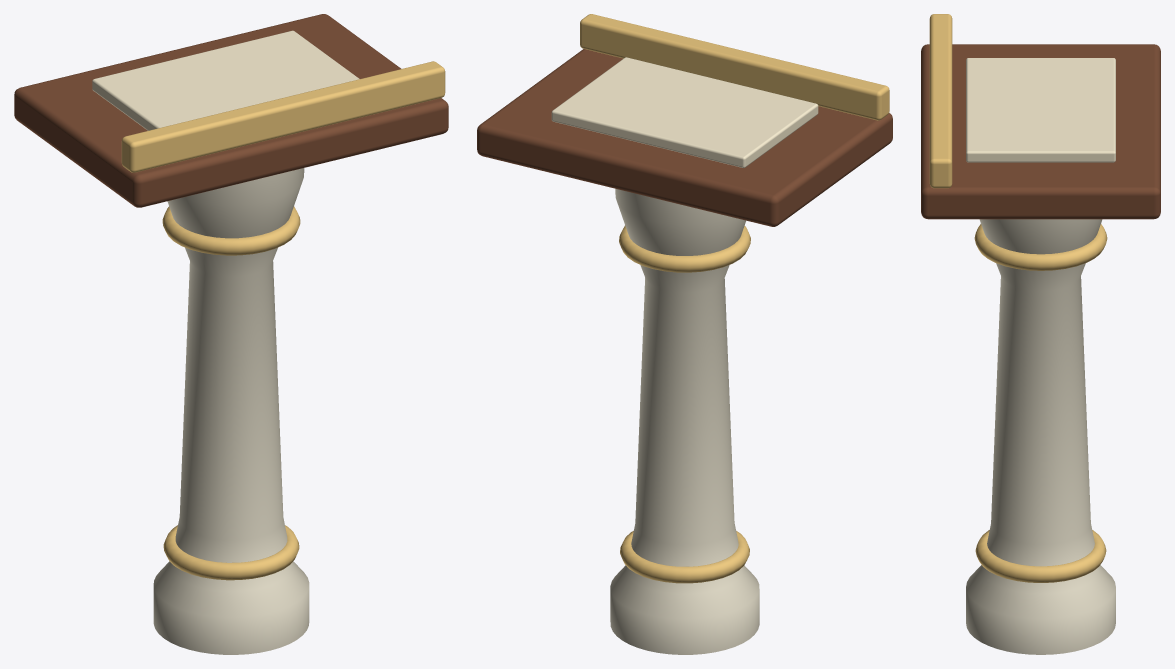
File: royal-court-and-throne-palace-heralds-lectern-a3f2b8fa__29385.glb
The picture shows the model from 3 angles, left to right: view 1: azimuth 30°, elevation 25°; view 2: azimuth 150°, elevation 25°; view 3: azimuth 270°, elevation 25°; orthographic projection. The views are drawn at different scales.
Parts seen in each view (by area): view 1: heralds-lectern; view 2: heralds-lectern; view 3: heralds-lectern.
Boxes of the visible parts, box(x1,y1,x2,y2) form: heralds-lectern: box(14, 14, 448, 654); heralds-lectern: box(477, 14, 892, 654); heralds-lectern: box(921, 14, 1160, 654).
Bounding box in the file's own units: 0.7 × 1.18 × 0.48.
